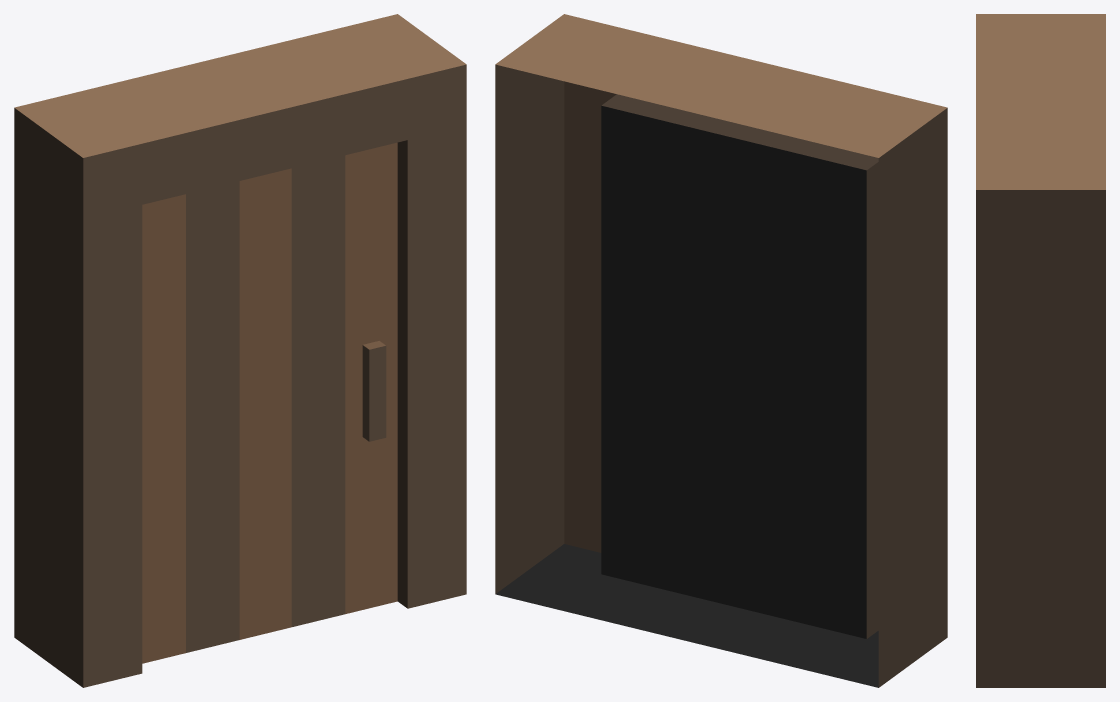
The model's file is TB_D_Bd_Sqr_DoorSet_A.FBX.
3 renders of one model, left to right at view 1: azimuth 30°, elevation 25°; view 2: azimuth 150°, elevation 25°; view 3: azimuth 270°, elevation 25°, orthographic. The views are drawn at different scales.
Visible parts, largest first — view 1: TB_D_Bd_Sqr_DoorSet_A, TB_D_Bd_Sqr_Door_A; view 2: TB_D_Bd_Sqr_DoorSet_A; view 3: TB_D_Bd_Sqr_DoorSet_A.
Boxes of the visible parts, x1,y1,x2,y2 form: TB_D_Bd_Sqr_DoorSet_A: (14,14,466,687); TB_D_Bd_Sqr_Door_A: (142,142,397,663); TB_D_Bd_Sqr_DoorSet_A: (495,14,947,687); TB_D_Bd_Sqr_DoorSet_A: (976,14,1105,687).
Bounding box in the file's own units: 1.3 × 1.71 × 0.4047.
